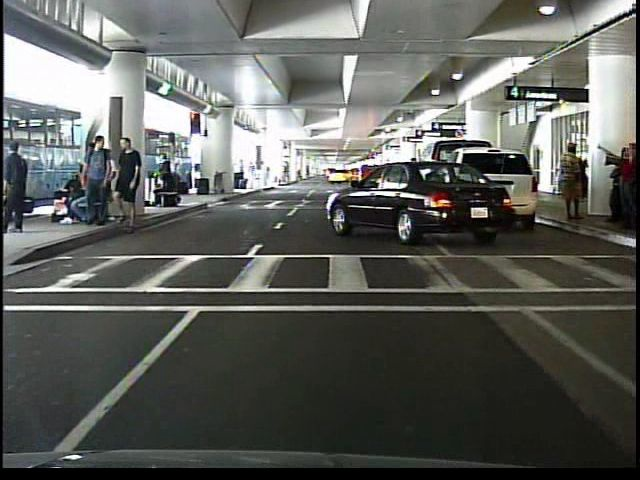person: (5, 138, 36, 238), (557, 143, 586, 227), (150, 163, 180, 210)
